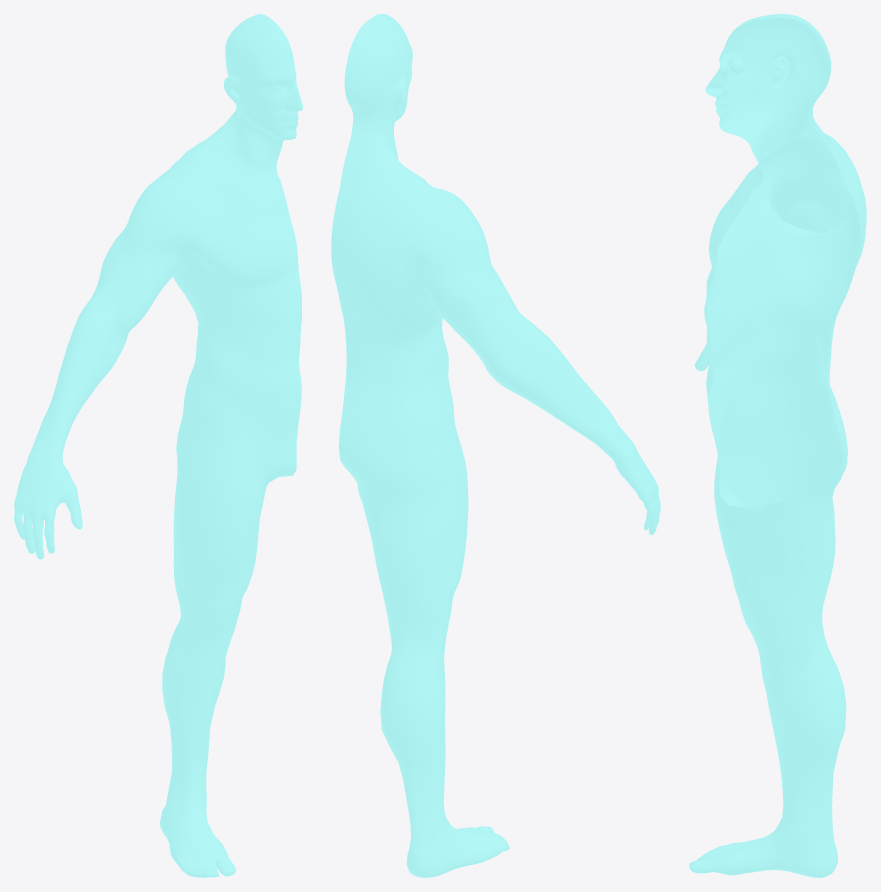
The model's file is MaleHologram.glb.
3 renders of one model, left to right at view 1: azimuth 30°, elevation 25°; view 2: azimuth 150°, elevation 25°; view 3: azimuth 270°, elevation 25°, orthographic. The views are drawn at different scales.
Visible parts, largest first — view 1: MaleHologram; view 2: MaleHologram; view 3: MaleHologram.
Boxes of the visible parts, x1,y1,x2,y2 form: MaleHologram: (14, 14, 302, 877); MaleHologram: (331, 14, 660, 877); MaleHologram: (689, 14, 866, 877).
Bounding box in the file's own units: 0.6314 × 1.83 × 0.3274.
